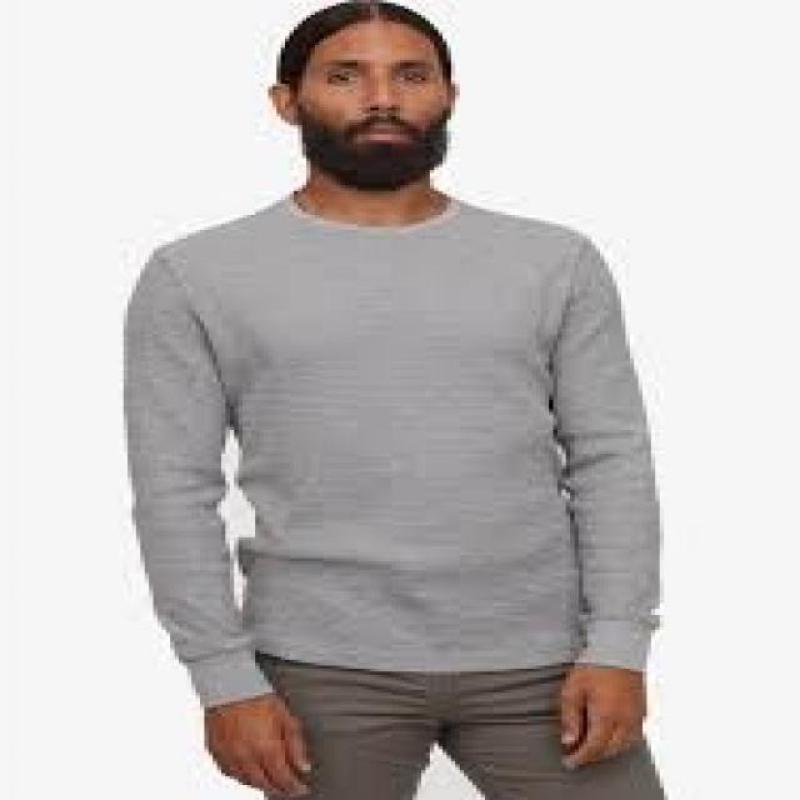sweater: (120, 198, 663, 710)
trousers: (247, 656, 669, 800)
